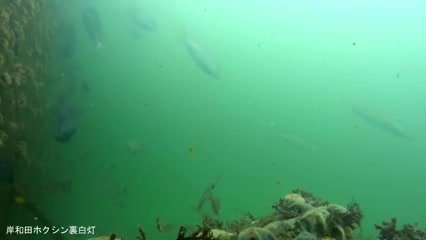smallfish: (177, 25, 226, 84)
